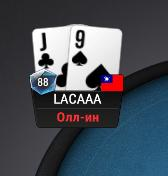9s: (70, 25, 121, 90)
Jc: (32, 27, 70, 90)
